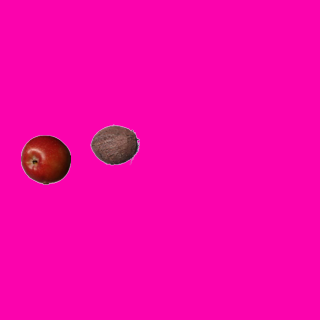Apple Braeburn: (20, 134, 70, 184)
Cocos: (89, 119, 139, 169)
